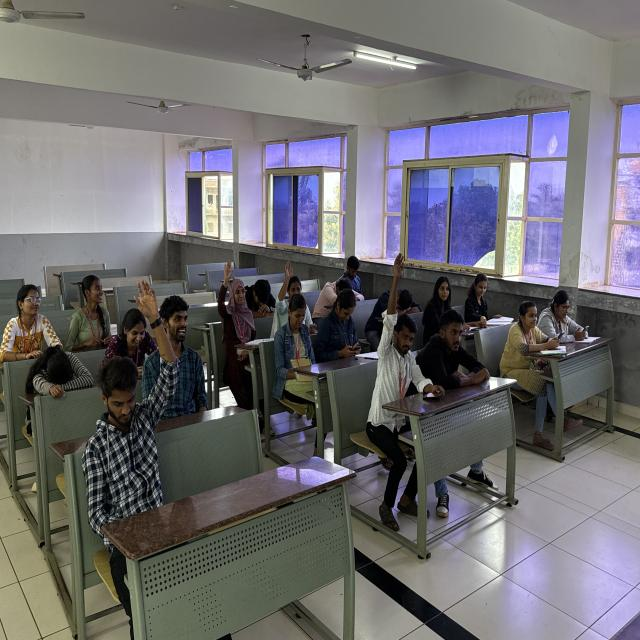Hand Rising: (79, 279, 195, 570), (355, 247, 445, 522), (208, 249, 270, 408)
Sleeping: (22, 332, 98, 408)
Using Phone: (500, 300, 568, 392), (311, 282, 369, 370), (540, 277, 604, 354)
